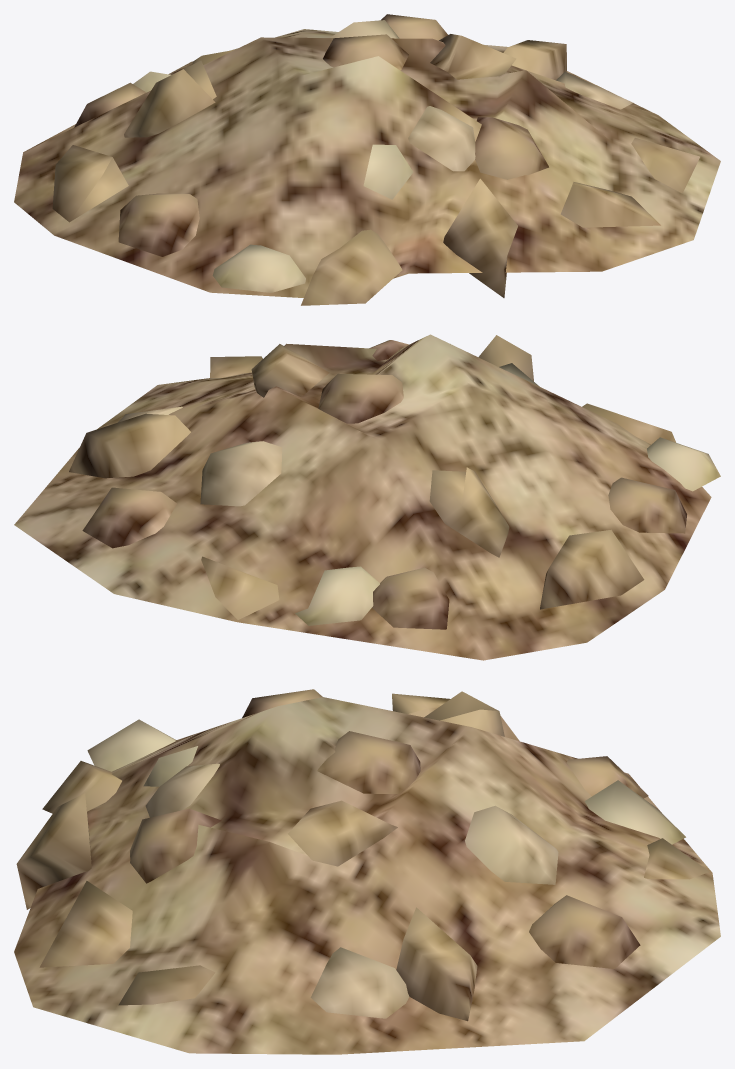
Rendered from skull-pile.lod1.glb.
3 renders of one model, top to bottom at view 1: azimuth 30°, elevation 25°; view 2: azimuth 150°, elevation 25°; view 3: azimuth 270°, elevation 25°, orthographic. The views are drawn at different scales.
Visible parts, largest first — view 1: Box001_03 - Default_0; view 2: Box001_03 - Default_0; view 3: Box001_03 - Default_0.
Part boxes in pixels (x1=…): Box001_03 - Default_0: x1=14, y1=14, x2=720, y2=305; Box001_03 - Default_0: x1=14, y1=334, x2=720, y2=660; Box001_03 - Default_0: x1=14, y1=689, x2=720, y2=1054.
Bounding box in the file's own units: 1.4 × 0.3853 × 1.27.
Materials: 1 (1 with a texture image).
